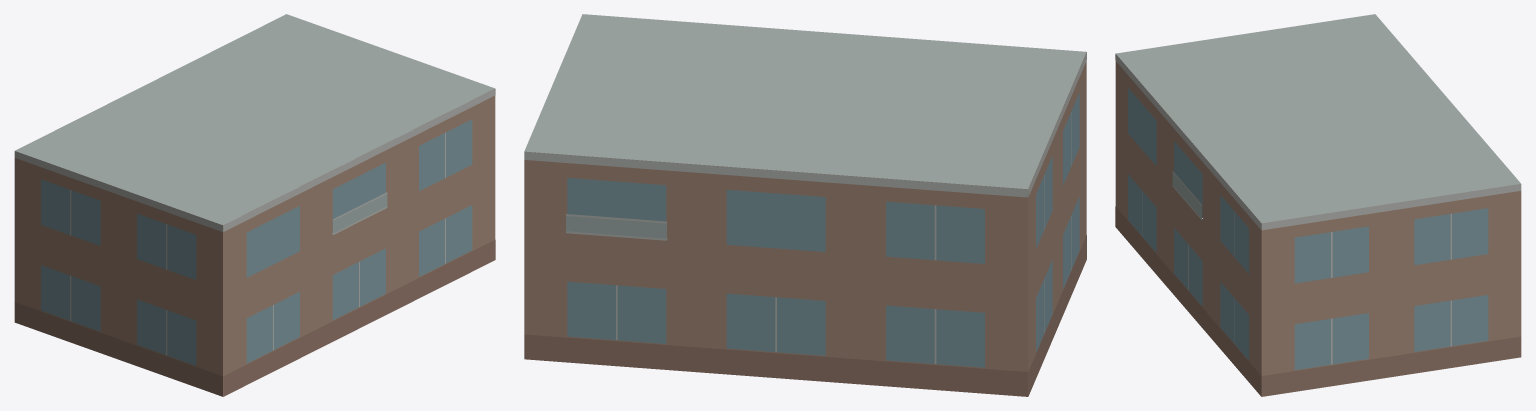
Rendered from survey-upis-32696889.glb.
The picture shows the model from 3 angles, left to right: view 1: azimuth 30°, elevation 25°; view 2: azimuth 150°, elevation 25°; view 3: azimuth 270°, elevation 25°; orthographic projection. The views are drawn at different scales.
Parts seen in each view (by area): view 1: survey-upis-32696889.tmp; view 2: survey-upis-32696889.tmp; view 3: survey-upis-32696889.tmp.
Part boxes in pixels (<box>): survey-upis-32696889.tmp: <box>14,14,495,396</box>; survey-upis-32696889.tmp: <box>524,14,1086,396</box>; survey-upis-32696889.tmp: <box>1115,14,1521,396</box>.
Size of the model in its own units: 15.81 by 6.1 by 12.95.
